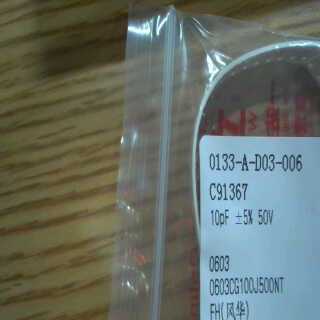10pF: (207, 206, 231, 230)
